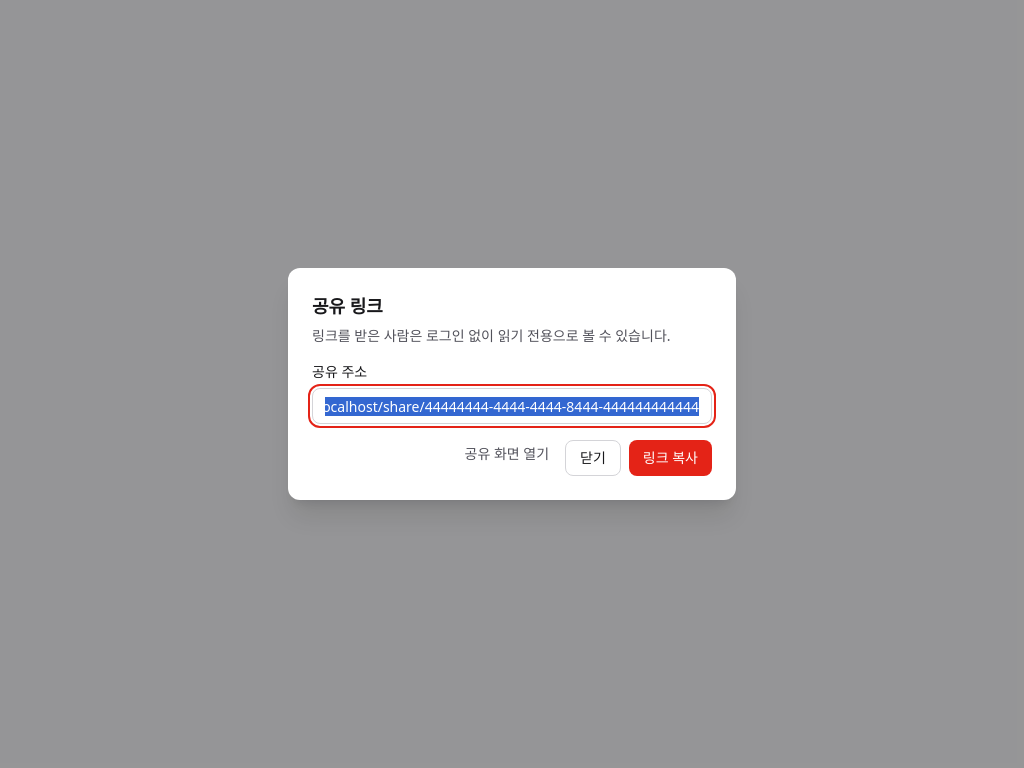
Test: ShareLinkDialog › 복사에 실패하면 직접 복사하도록 안내한다
Click the button "링크 복사" at (670, 458), box [629,440,712,476]
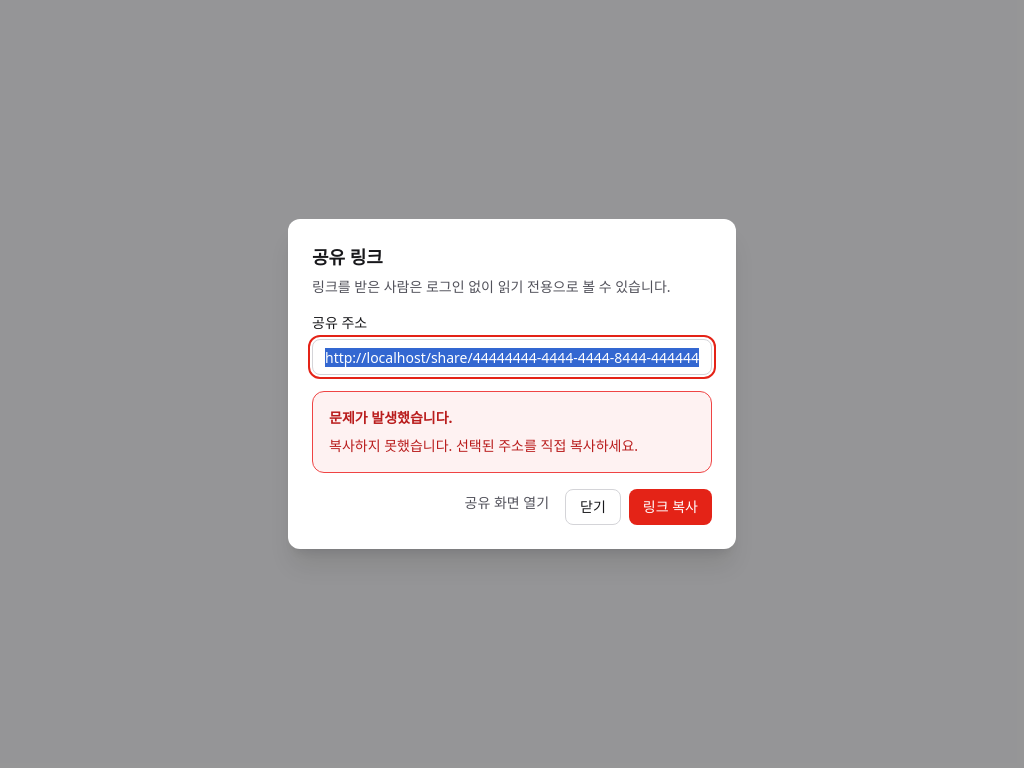
Result: the text "복사하지 못했습니다. 선택된 주소를 직접 복사하세요." is shown at [329,436,638,455]
